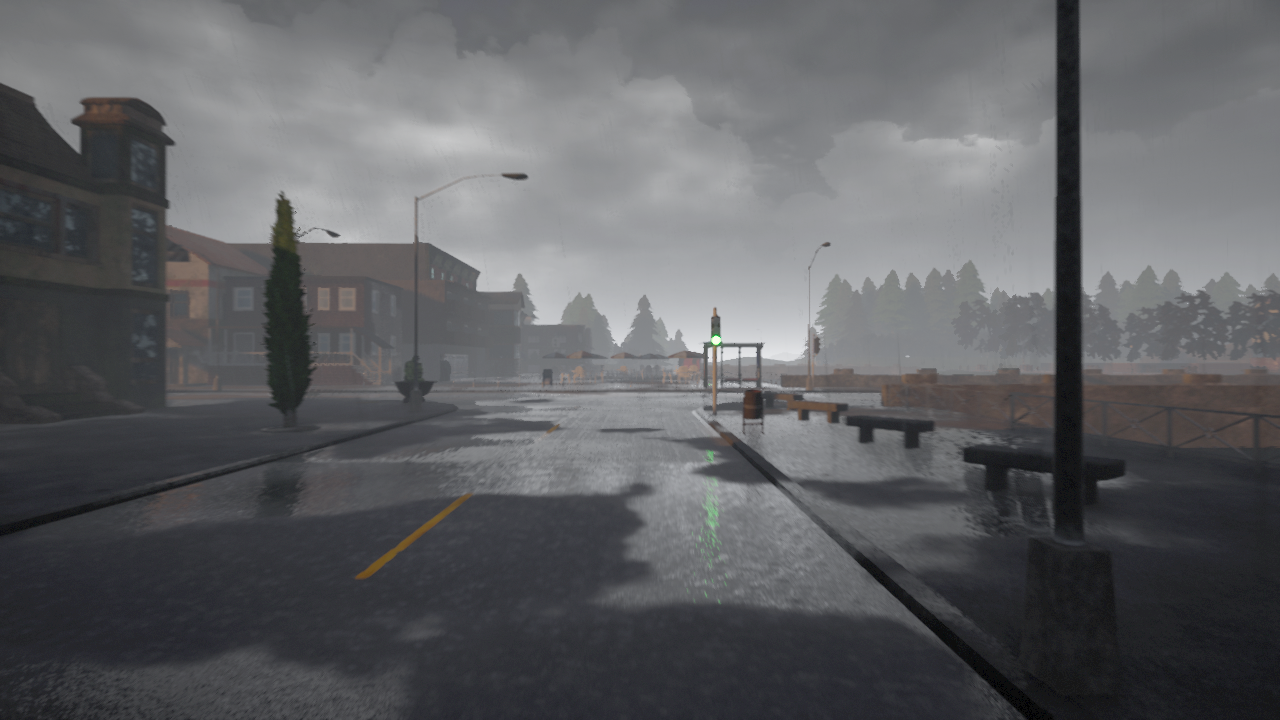green: (711, 315, 722, 346)
